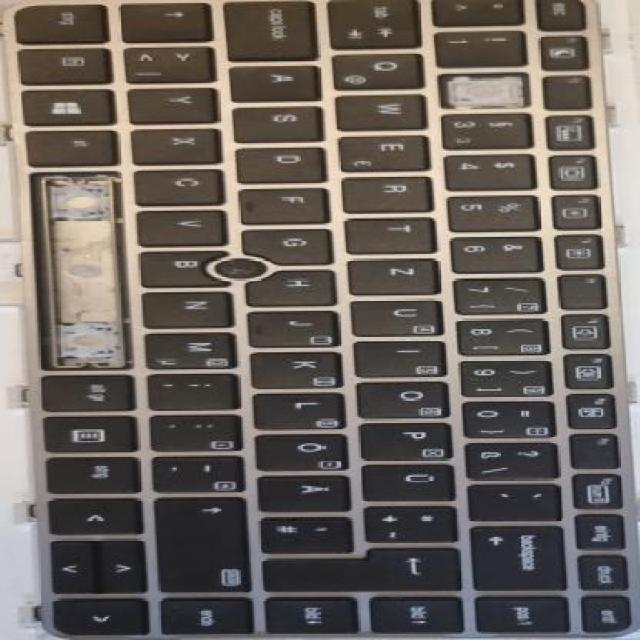Keyboard problems: (34, 175, 128, 368), (443, 75, 523, 108)
